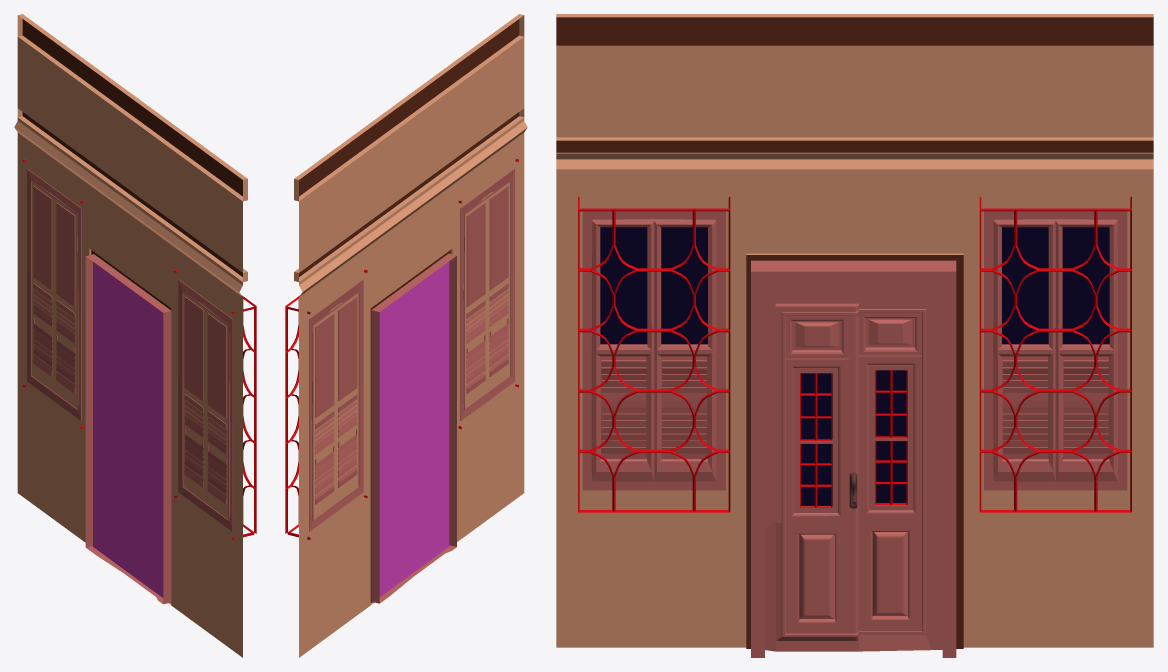
Rendered from Casa3.fbx.
3 views of the same model, side by side, from view 1: azimuth 30°, elevation 25°; view 2: azimuth 150°, elevation 25°; view 3: azimuth 270°, elevation 25° (orthographic). The views are drawn at different scales.
Parts seen in each view (by area): view 1: Casa2; view 2: Casa2; view 3: Casa2.
Boxes of the visible parts, left/top/right/bottom form: Casa2: left=14, top=14, right=256, bottom=657; Casa2: left=285, top=14, right=527, bottom=657; Casa2: left=556, top=14, right=1153, bottom=657.
Bounding box in the file's own units: 14.5 × 234 × 200.
